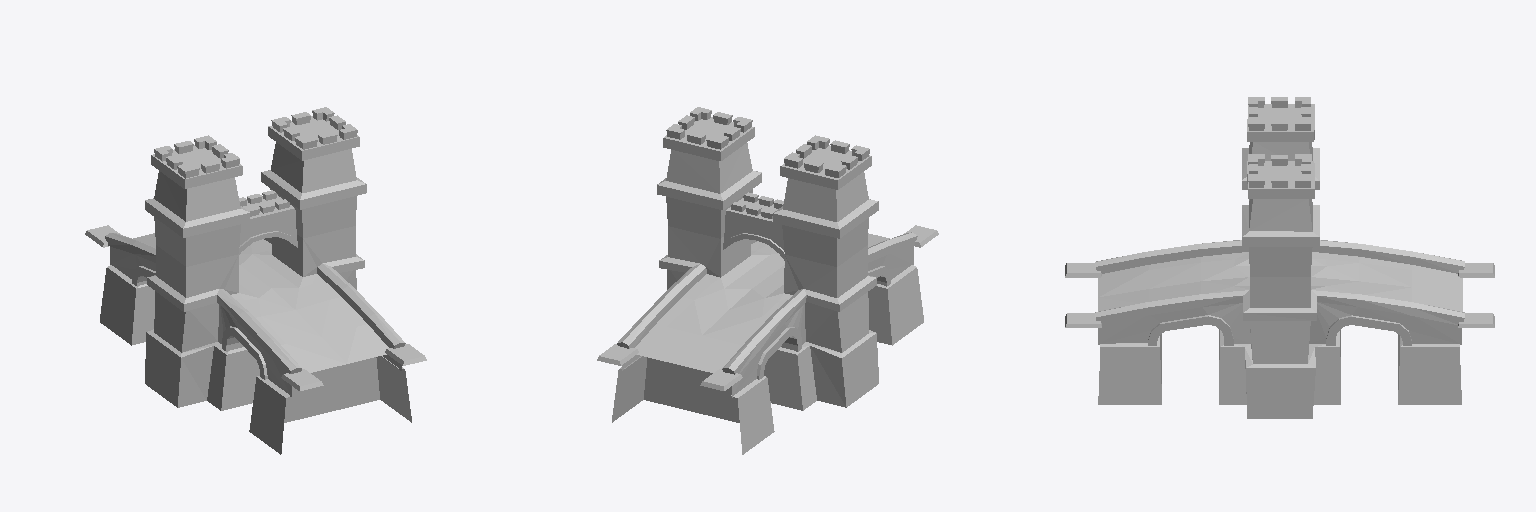
File: elwynnlionbridge_set0.obj
3 renders of one model, left to right at view 1: azimuth 30°, elevation 25°; view 2: azimuth 150°, elevation 25°; view 3: azimuth 270°, elevation 25°, orthographic.
Visible parts, largest first — view 1: elwynnlionbridge_set0; view 2: elwynnlionbridge_set0; view 3: elwynnlionbridge_set0.
Part boxes in pixels (bbox=[...]): elwynnlionbridge_set0: bbox=[85, 107, 426, 454]; elwynnlionbridge_set0: bbox=[597, 107, 938, 454]; elwynnlionbridge_set0: bbox=[1065, 97, 1494, 418].
Size of the model in its own units: 33.2 by 39.03 by 65.17.